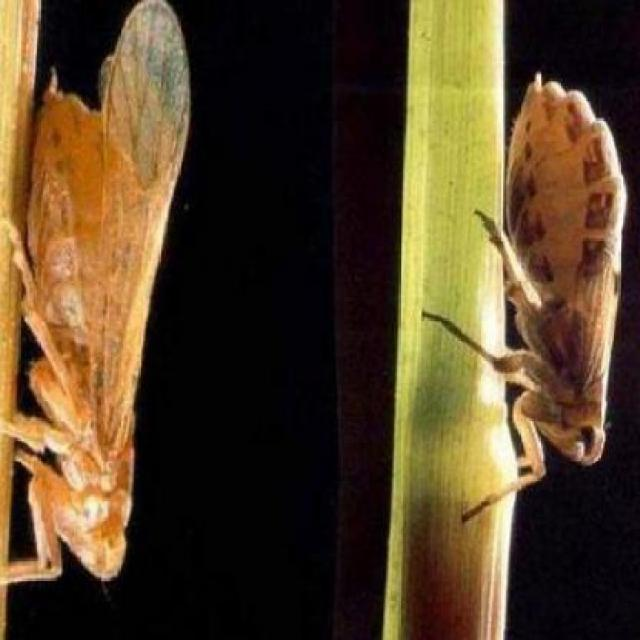brown-planthopper: (18, 68, 140, 588), (494, 68, 624, 483)
